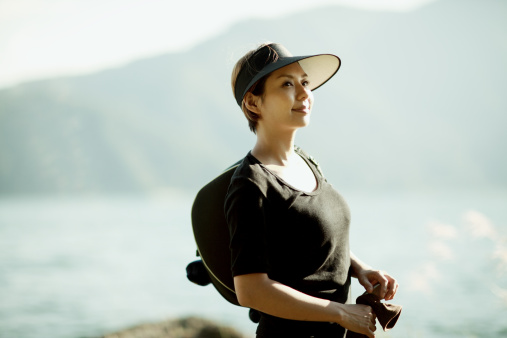em pe: (186, 27, 409, 333)
